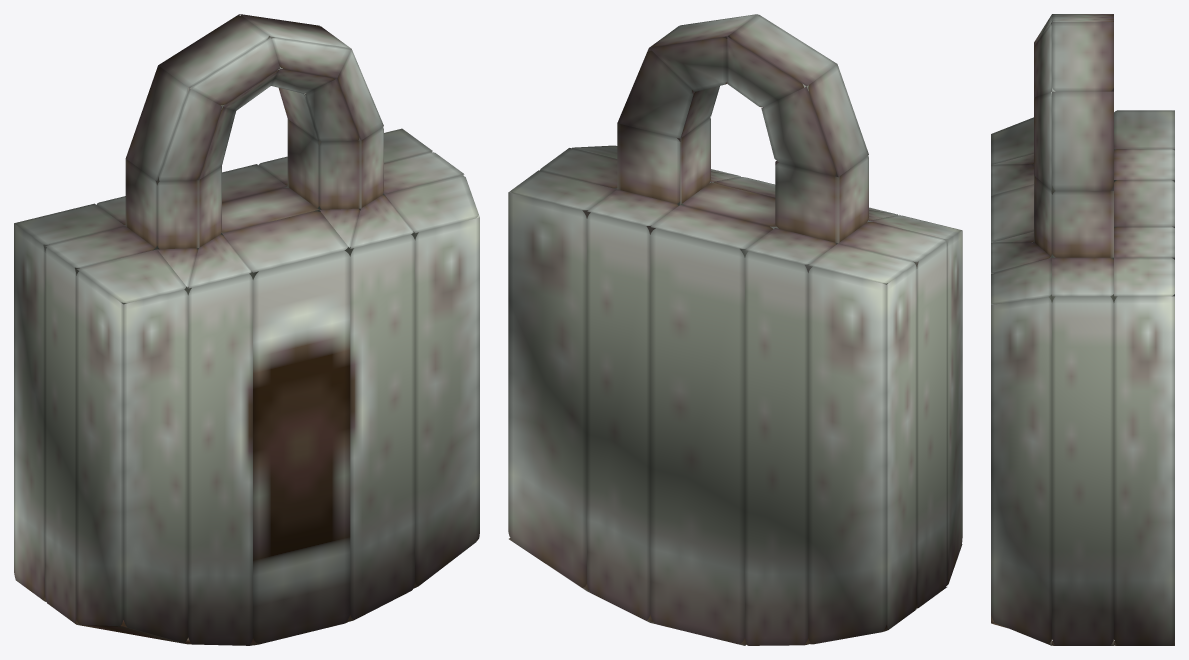
3 renders of one model, left to right at view 1: azimuth 30°, elevation 25°; view 2: azimuth 150°, elevation 25°; view 3: azimuth 270°, elevation 25°, orthographic. The views are drawn at different scales.
Parts seen in each view (by area): view 1: T1L2M001_30; view 2: T1L2M001_30; view 3: T1L2M001_30.
Part boxes in pixels (box(x1,y1,x2,y2)): T1L2M001_30: box(14, 14, 479, 645); T1L2M001_30: box(508, 14, 962, 645); T1L2M001_30: box(991, 14, 1174, 645).
Bounding box in the file's own units: 0.4795 × 0.6973 × 0.2002.
